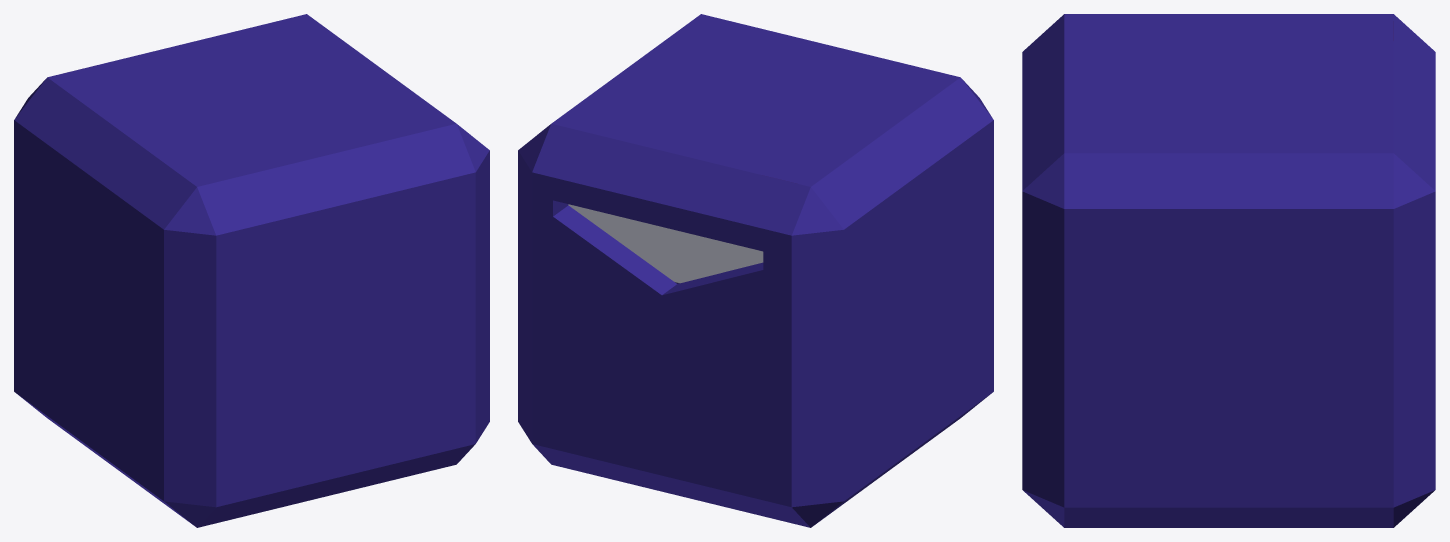
Rendered from bluebox.glb.
3 renders of one model, left to right at view 1: azimuth 30°, elevation 25°; view 2: azimuth 150°, elevation 25°; view 3: azimuth 270°, elevation 25°, orthographic. The views are drawn at different scales.
Visible parts, largest first — view 1: Cube; view 2: Cube; view 3: Cube.
Boxes of the visible parts, box(x1,y1,x2,y2) form: Cube: box(14, 14, 489, 527); Cube: box(518, 14, 993, 527); Cube: box(1022, 14, 1435, 527).
Bounding box in the file's own units: 1.8 × 1.8 × 1.8.
Materials: 1 (1 with a texture image).
